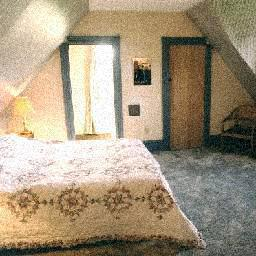Puerta: (164, 40, 209, 148)
